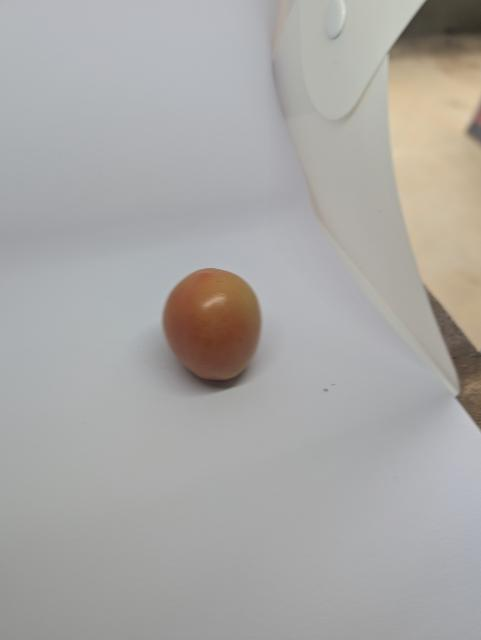turning: (155, 262, 271, 391)
